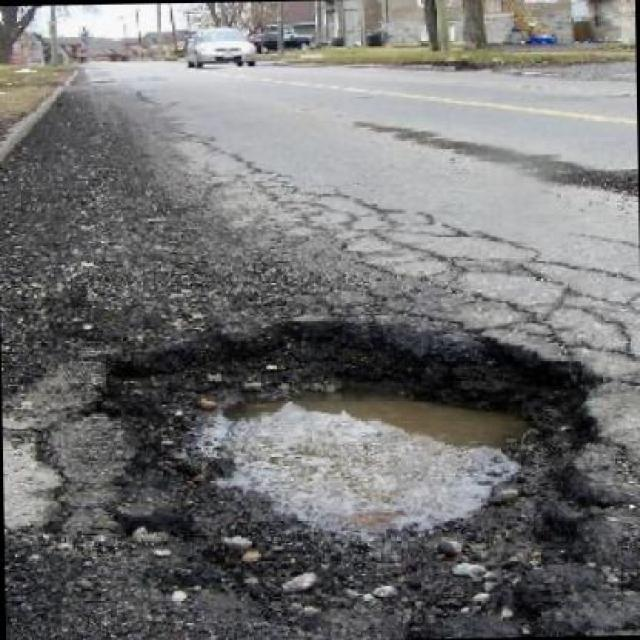pothole1: (94, 307, 615, 638)
